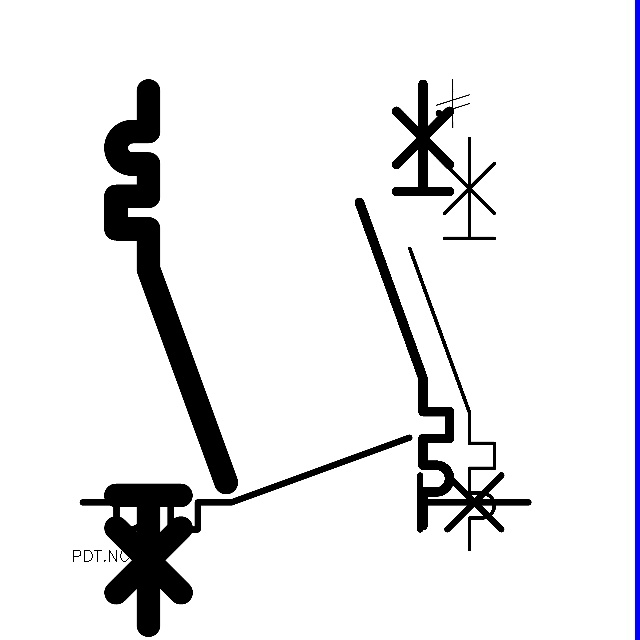interruptor_termomagnetico: (102, 77, 239, 639), (71, 426, 540, 541), (348, 73, 461, 537), (399, 127, 505, 559)
